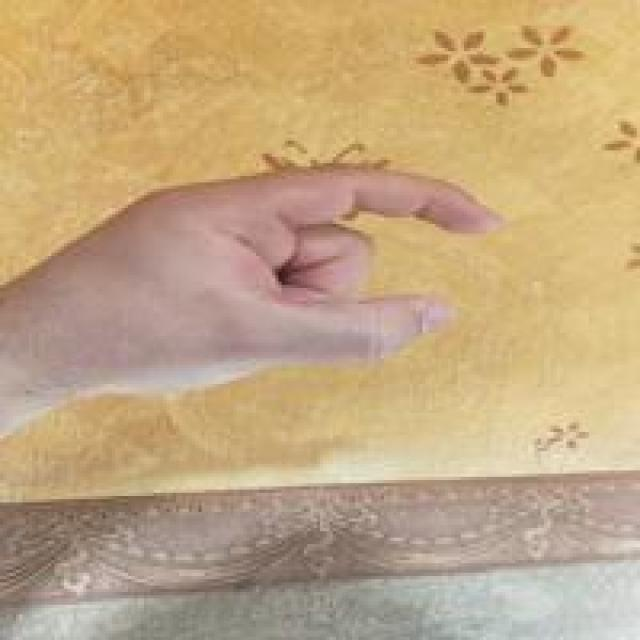Q: (0, 158, 509, 405)
